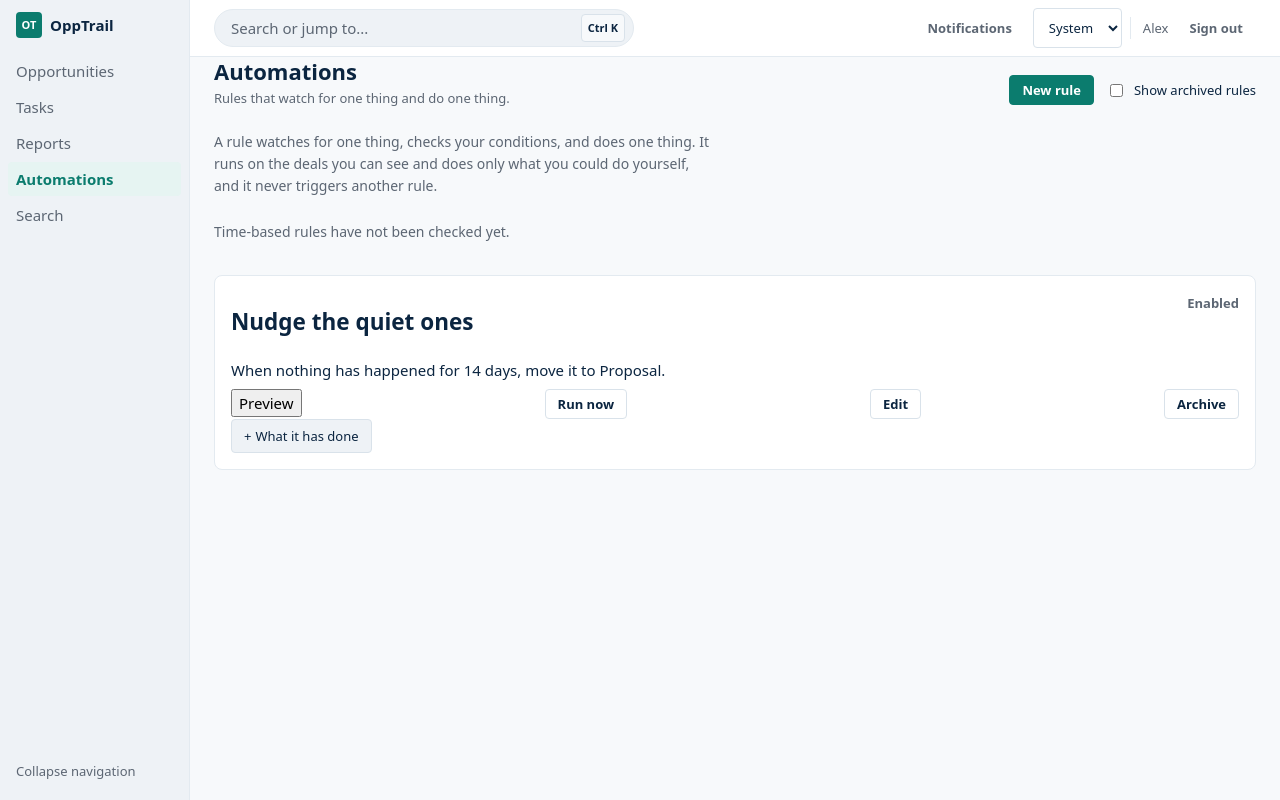
Test: the run log › is a disclosure, and shows a skip with its reason
Check: the heading "Automations" is shown, box [214,56,357,86]
What coordinates should you click on to do the following:
click the button "Preview"
I would click on:
 (266, 403)
Its box is [231,389,302,417].
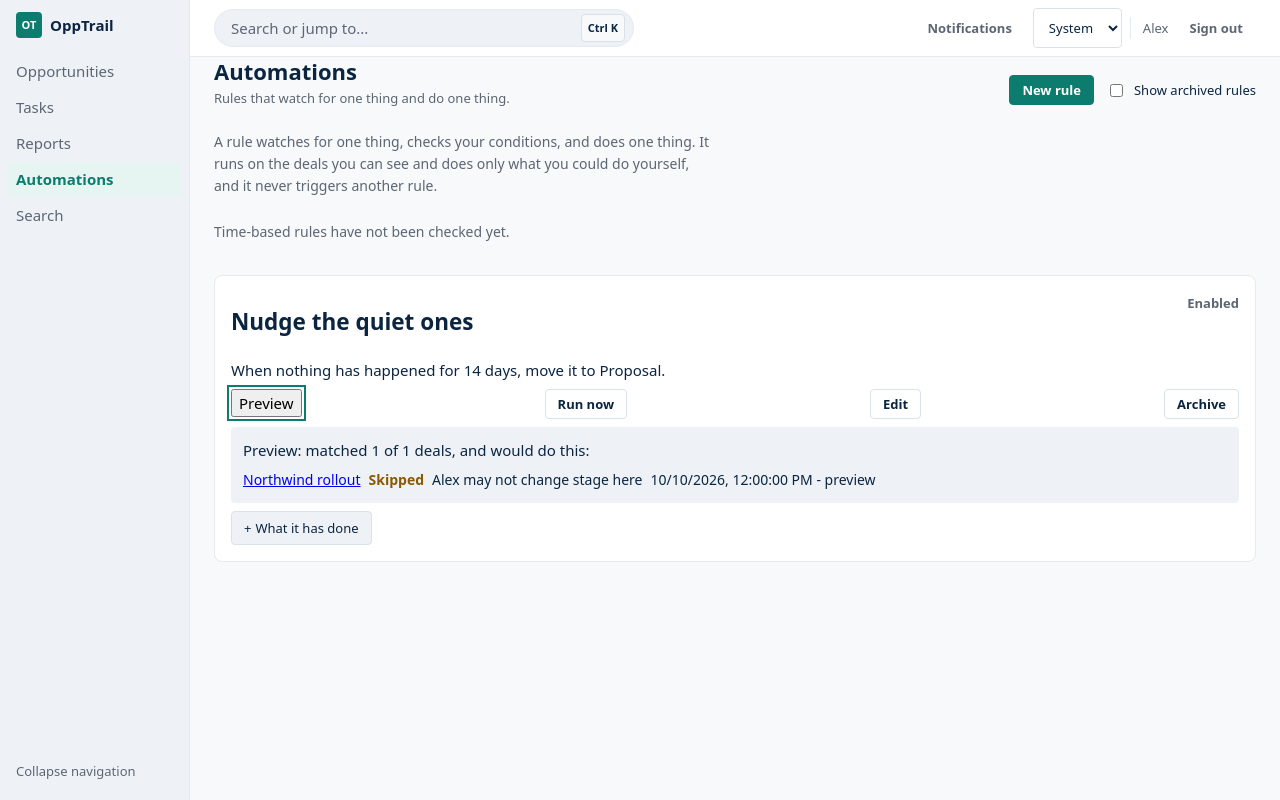
Check: the text "skipped" is shown, box [368,469,424,491]
Check: the text "Alex may not change stage here" is shown, box [432,469,642,491]
What coordinates should you click on to do the following:
click the button "+ What it has done"
I would click on:
 (301, 528)
Its box is [231,511,372,545].
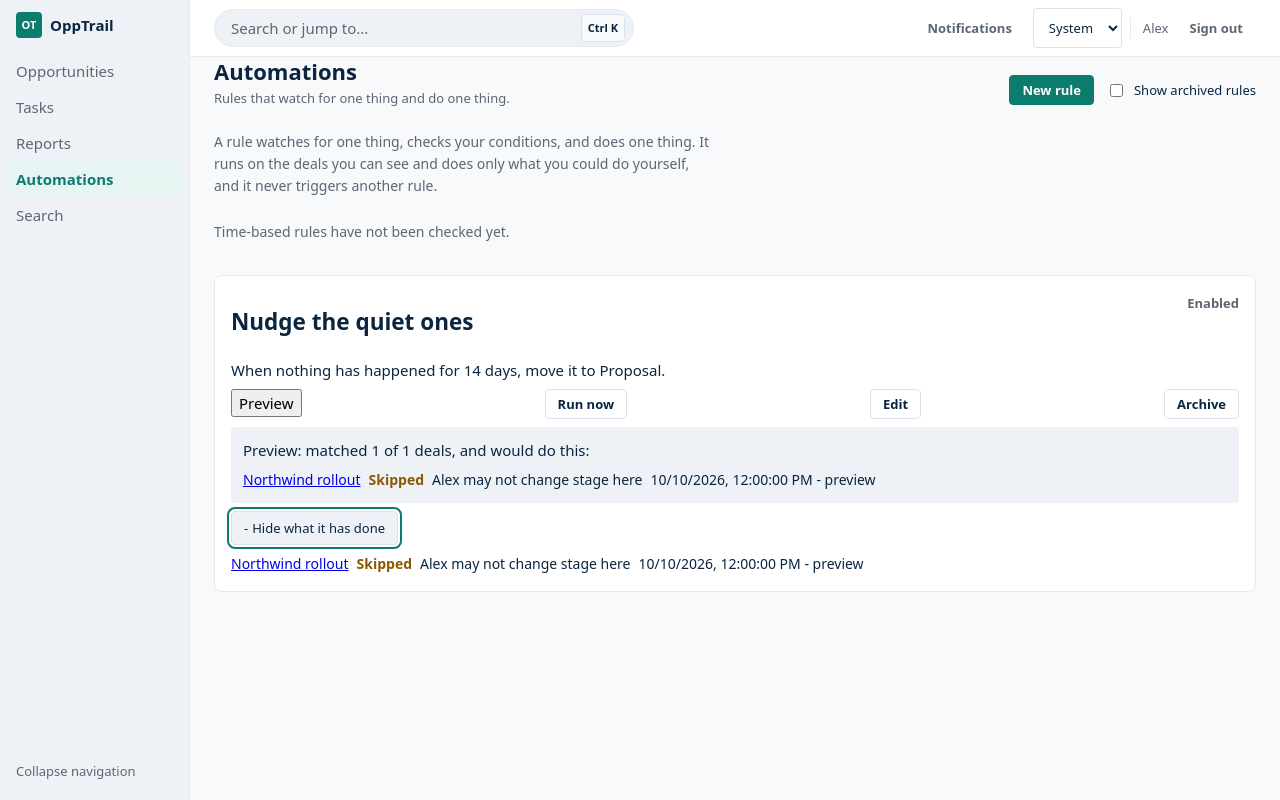
Check: the button "- Hide what it has done" is shown, box [231,511,398,545]
